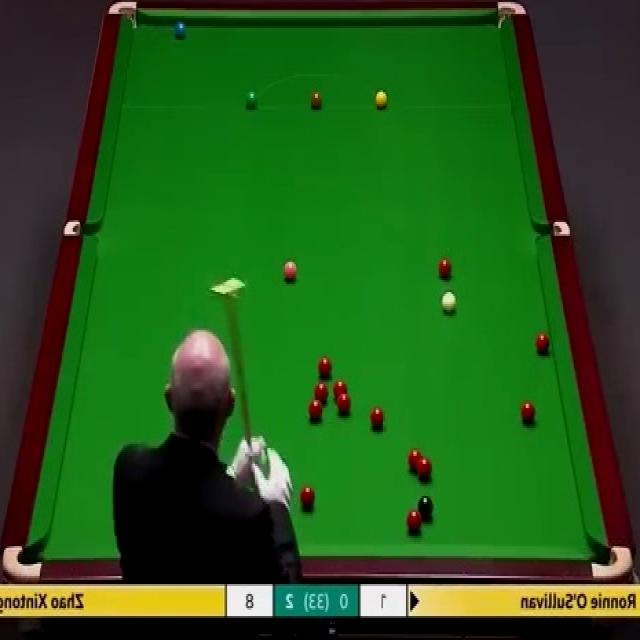black-ball: (417, 494, 434, 521)
blue-ball: (172, 18, 188, 43)
brown-ball: (309, 91, 323, 111)
green-ball: (246, 90, 260, 112)
pink-ball: (280, 256, 299, 284)
red-ball: (520, 397, 538, 427), (405, 509, 423, 536), (415, 457, 434, 482), (299, 485, 315, 512), (534, 332, 551, 357), (368, 408, 384, 432), (336, 393, 352, 416), (318, 356, 332, 382), (437, 256, 452, 280), (332, 379, 349, 400), (406, 448, 422, 470), (308, 398, 323, 420), (313, 382, 329, 402)
white-ball: (441, 289, 457, 316)
yellow-ball: (374, 90, 388, 110)
